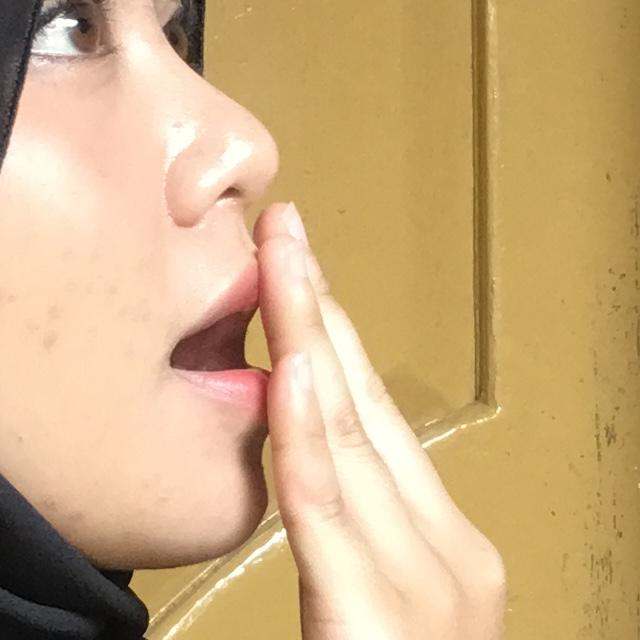ngantuk: (80, 106, 570, 640)
